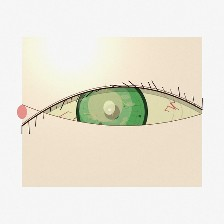corneal_ulcer: (77, 83, 134, 128)
